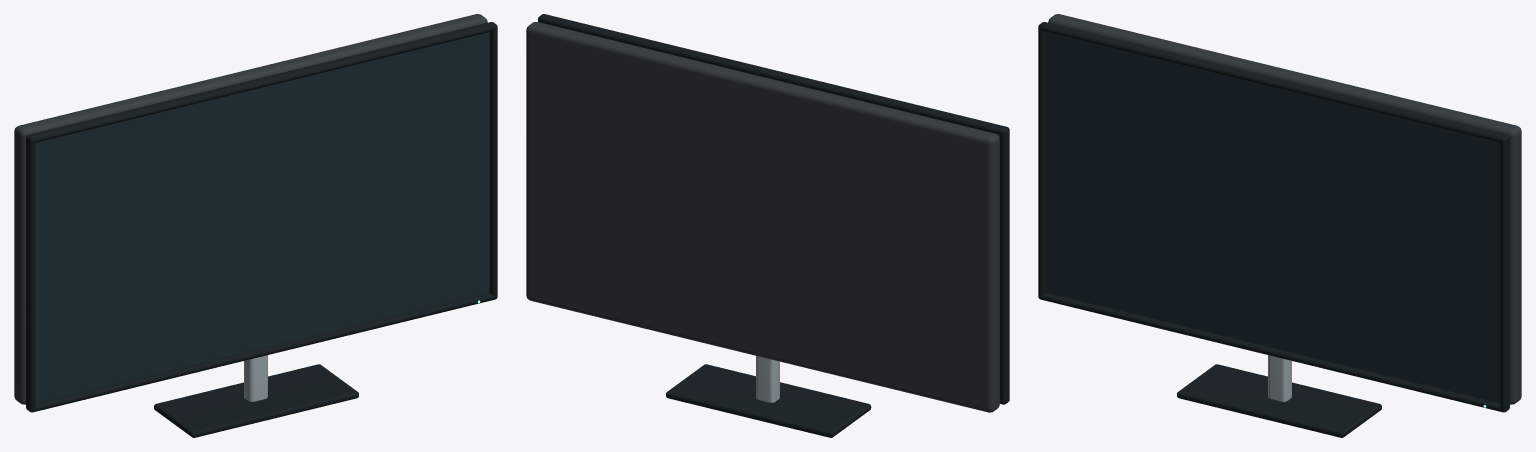
Rendered from tv-modern.glb.
3 views of the same model, side by side, from view 1: azimuth 30°, elevation 25°; view 2: azimuth 150°, elevation 25°; view 3: azimuth 330°, elevation 25° (orthographic).
Visible parts, largest first — view 1: Display_Surface, tv-modern_Shell; view 2: tv-modern_Shell; view 3: Display_Surface, tv-modern_Shell.
Boxes of the visible parts, x1=… form: Display_Surface: x1=35, y1=32, x2=489, y2=403; tv-modern_Shell: x1=14, y1=14, x2=497, y2=437; tv-modern_Shell: x1=526, y1=14, x2=1009, y2=437; Display_Surface: x1=1046, y1=32, x2=1500, y2=403; tv-modern_Shell: x1=1038, y1=14, x2=1521, y2=437.
Bounding box in the file's own units: 4.2 × 2.82 × 0.62.
